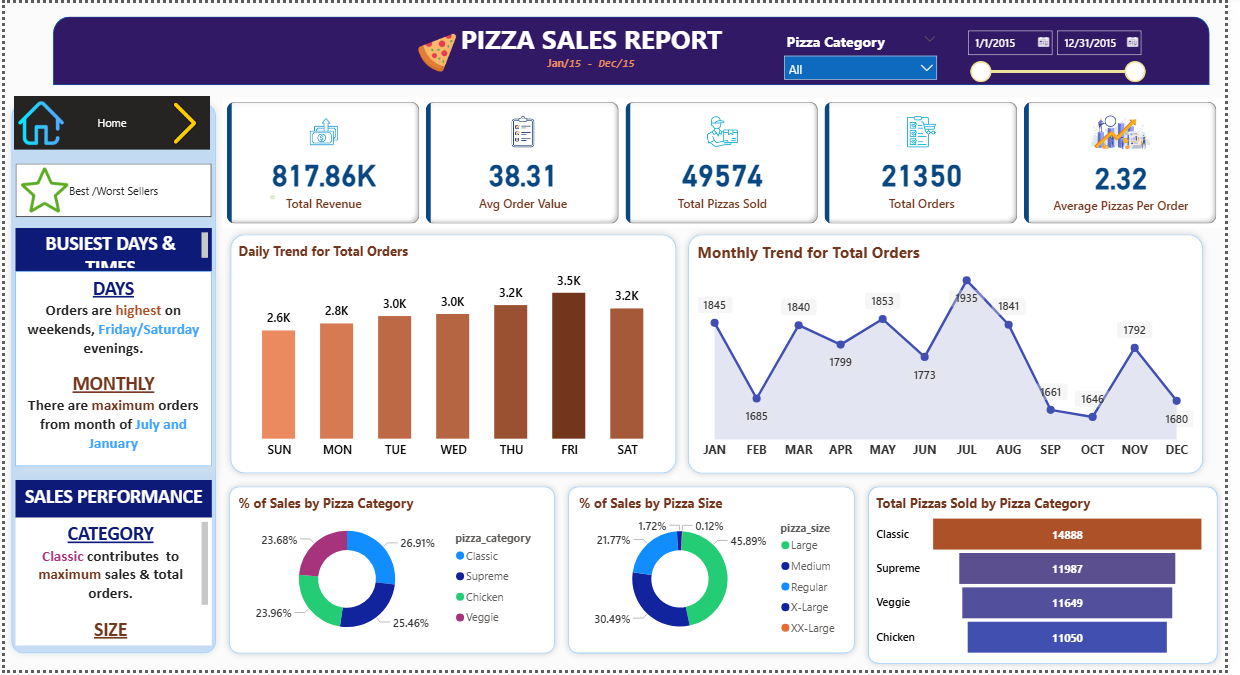

The page's visual inventory and layout, read from the dashboard file:
{"tool":"powerbi","page":{"name":"Home","canvas":[1500,820],"ordinal":0},"visuals":[{"type":"cardVisual","fields":{"Data":["pizza_sales.Total Revenue","pizza_sales.Avg Order Value","pizza_sales.Total Pizzas Sold","pizza_sales.Total Orders","pizza_sales.Average Pizzas Per Order"]},"box":[267.4,116.2,1231.9,160.4],"z":0},{"type":"shape","box":[59,16.6,1421.8,84.8],"z":1000},{"type":"textbox","box":[531.1,16.6,379.9,75.6],"z":2000},{"type":"textbox","box":[619.6,59,201,33.2],"z":3000},{"type":"image","box":[501.6,29.5,59,62.7],"z":4000},{"type":"shape","box":[269.2,276.6,564.3,309.8],"z":5000},{"type":"columnChart","title":"Daily Trend for Total Orders ","fields":{"Category":["pizza_sales.Order Day"],"Y":["pizza_sales.Total Orders"]},"box":[282.2,293.2,538.5,276.6],"z":6000},{"type":"shape","box":[831.7,276.6,649.1,309.8],"z":7000},{"type":"areaChart","title":"Monthly Trend for Total Orders","fields":{"Y":["pizza_sales.Total Orders"],"Category":["pizza_sales.Order Month"]},"box":[846.5,293.2,619.6,276.6],"z":8000},{"type":"shape","box":[267.4,586.4,416.8,221.3],"z":9000},{"type":"shape","box":[684.2,586.4,368.8,221.3],"z":10000},{"type":"shape","box":[1053,586.4,446.3,234.2],"z":11000},{"type":"shape","box":[0,116.2,267.4,691.5],"z":12000},{"type":"donutChart","title":"% of Sales by Pizza Category","fields":{"Category":["pizza_sales.pizza_category"],"Y":["pizza_sales.Total Revenue"]},"box":[282.2,603,385.4,188.1],"z":13000},{"type":"donutChart","title":"% of Sales by Pizza Size","fields":{"Y":["pizza_sales.Total Revenue"],"Category":["pizza_sales.pizza_size"]},"box":[700.8,603,337.5,188.1],"z":14000},{"type":"funnel","title":"Total Pizzas Sold by Pizza Category","fields":{"Category":["pizza_sales.pizza_category"],"Y":["pizza_sales.Total Pizzas Sold"]},"box":[1065.9,603,414.9,204.7],"z":15000},{"type":"textbox","box":[13.3,276.8,241.4,53.2],"z":16000},{"type":"textbox","box":[13.3,330,241.4,239.2],"z":17000},{"type":"textbox","box":[13.3,586.9,241.4,46.5],"z":18000},{"type":"textbox","box":[13.3,633.4,241.4,157.2],"z":19000},{"type":"slicer","fields":{"Values":["pizza_sales.pizza_category"]},"box":[947.8,28.8,208.2,70.9],"z":20000},{"type":"slicer","fields":{"Values":["pizza_sales.order_date"]},"box":[1171.5,24.4,239.2,75.3],"z":21000},{"type":"pageNavigator","box":[11.1,115.2,241.4,66.4],"z":22000},{"type":"pageNavigator","box":[13.3,197.1,241.4,66.4],"z":23000},{"type":"image","box":[190.5,115.2,62,66.4],"z":24000},{"type":"image","box":[11.1,115.2,66.4,66.4],"z":25000},{"type":"image","box":[281.3,230.3,93,15.5],"z":26000},{"type":"image","box":[11.1,194.9,75.3,68.7],"z":26001}]}

Visuals, with their boxes in screenshot pixels (x1, y1, x2, y2), scaled from the page's 1500x820 canvas onto the 1240x675 screenshot:
cardVisual - pizza_sales.Total Revenue x pizza_sales.Avg Order Value: pyautogui.locateOnScreen(221, 96, 1239, 228)
shape: pyautogui.locateOnScreen(49, 14, 1224, 83)
textbox: pyautogui.locateOnScreen(439, 14, 753, 76)
textbox: pyautogui.locateOnScreen(512, 49, 678, 76)
image: pyautogui.locateOnScreen(415, 24, 463, 76)
shape: pyautogui.locateOnScreen(223, 228, 689, 483)
"Daily Trend for Total Orders " columnChart: pyautogui.locateOnScreen(233, 241, 678, 469)
shape: pyautogui.locateOnScreen(688, 228, 1224, 483)
"Monthly Trend for Total Orders" areaChart: pyautogui.locateOnScreen(700, 241, 1212, 469)
shape: pyautogui.locateOnScreen(221, 483, 566, 665)
shape: pyautogui.locateOnScreen(566, 483, 870, 665)
shape: pyautogui.locateOnScreen(870, 483, 1239, 674)
shape: pyautogui.locateOnScreen(0, 96, 221, 665)
"% of Sales by Pizza Category" donutChart: pyautogui.locateOnScreen(233, 496, 552, 651)
"% of Sales by Pizza Size" donutChart: pyautogui.locateOnScreen(579, 496, 858, 651)
"Total Pizzas Sold by Pizza Category" funnel: pyautogui.locateOnScreen(881, 496, 1224, 665)
textbox: pyautogui.locateOnScreen(11, 228, 211, 272)
textbox: pyautogui.locateOnScreen(11, 272, 211, 469)
textbox: pyautogui.locateOnScreen(11, 483, 211, 521)
textbox: pyautogui.locateOnScreen(11, 521, 211, 651)
slicer - pizza_sales.pizza_category: pyautogui.locateOnScreen(784, 24, 956, 82)
slicer - pizza_sales.order_date: pyautogui.locateOnScreen(968, 20, 1166, 82)
pageNavigator: pyautogui.locateOnScreen(9, 95, 209, 149)
pageNavigator: pyautogui.locateOnScreen(11, 162, 211, 217)
image: pyautogui.locateOnScreen(157, 95, 209, 149)
image: pyautogui.locateOnScreen(9, 95, 64, 149)
image: pyautogui.locateOnScreen(233, 190, 309, 202)
image: pyautogui.locateOnScreen(9, 160, 71, 217)
